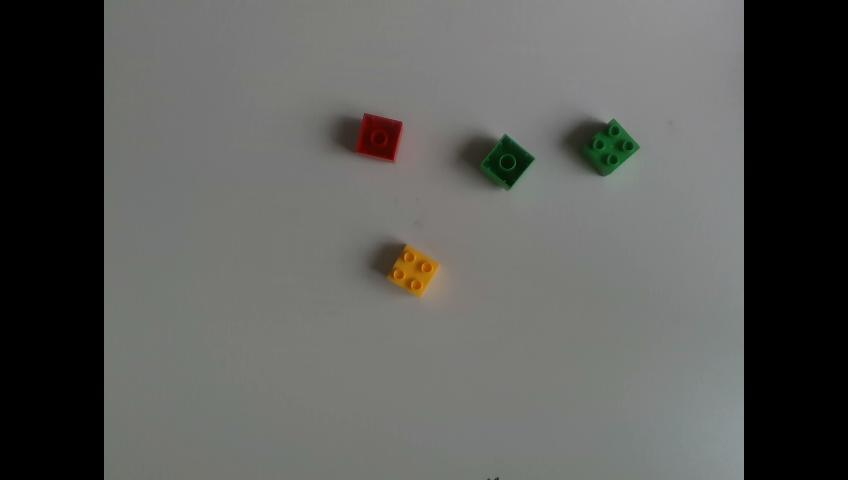2x2_green: (584, 115, 640, 174), (480, 130, 533, 188)
2x2_red: (356, 111, 402, 159)
2x2_yellow: (388, 245, 439, 296)
